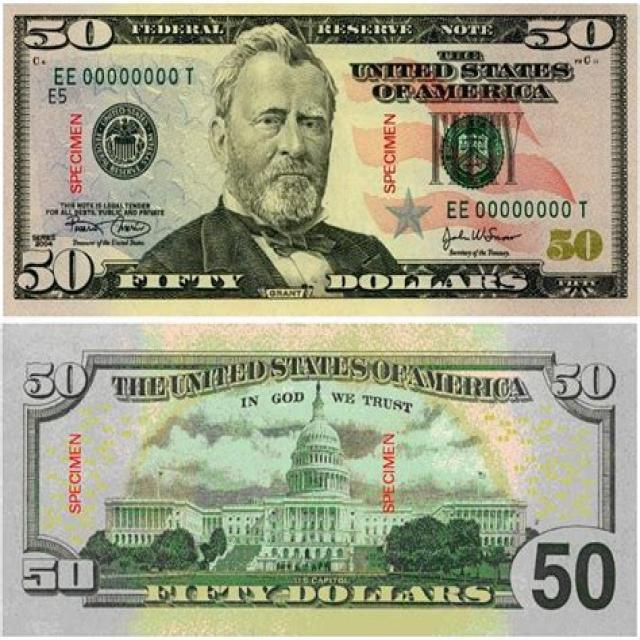Fifty: (0, 0, 640, 318), (1, 322, 640, 640)
